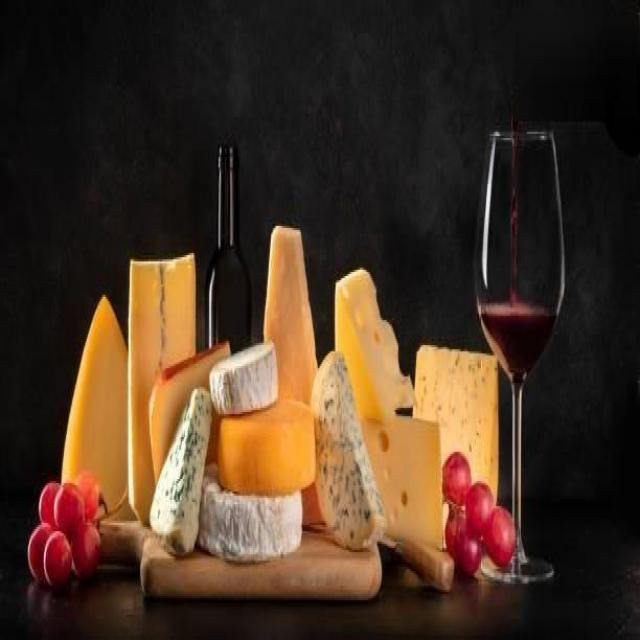bottle-glass: (202, 134, 254, 353)
glass-wine: (474, 126, 566, 584)
